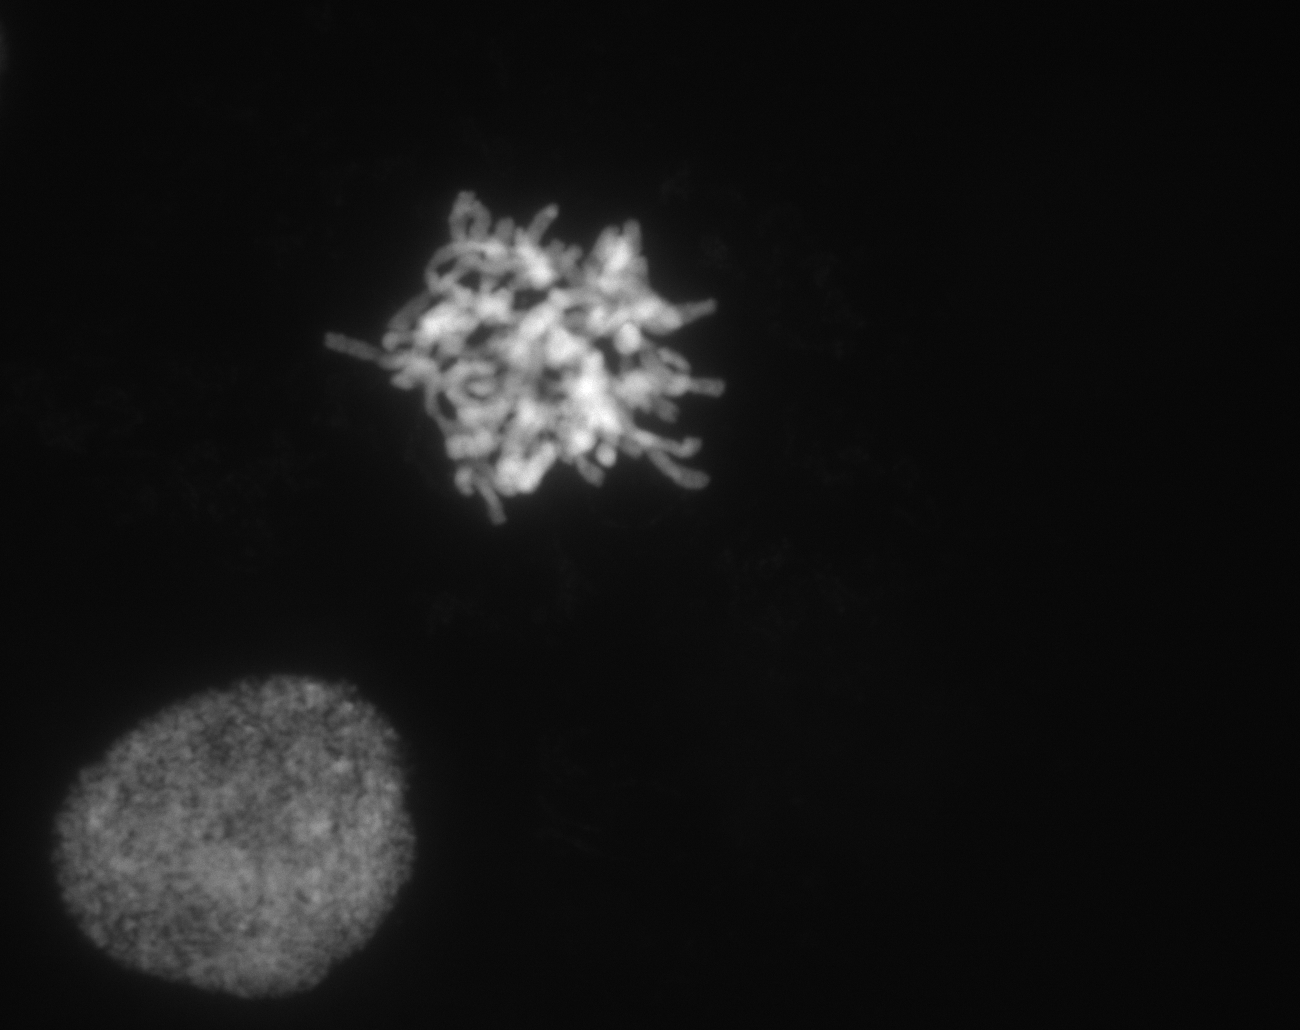Chromosomes: (310, 151, 781, 548)
Others: (5, 617, 473, 1030)
